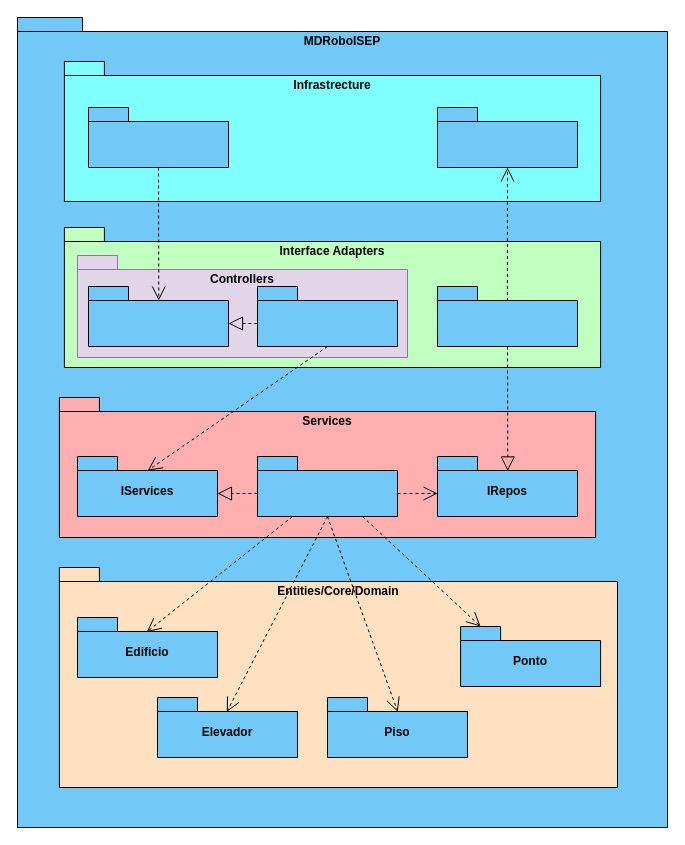
The diagram is 685 pixels wide and 845 high, and some of its shapes have lost their labels. The shapes that lost their labels are listed below. From the top down, each one's centre as x and y in pixels, then its label:
[158,137]: Routes
[507,137]: Persistence
[158,316]: IControllers
[327,316]: ImplControllers
[507,316]: Repos
[327,486]: ImplServices
